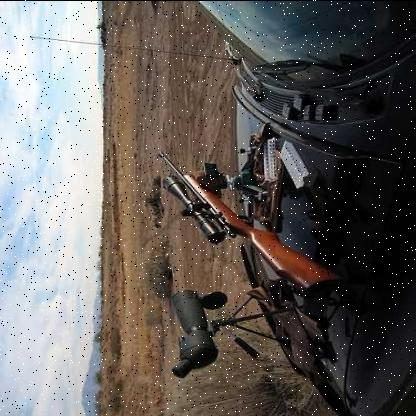rifle: (137, 136, 367, 308)
